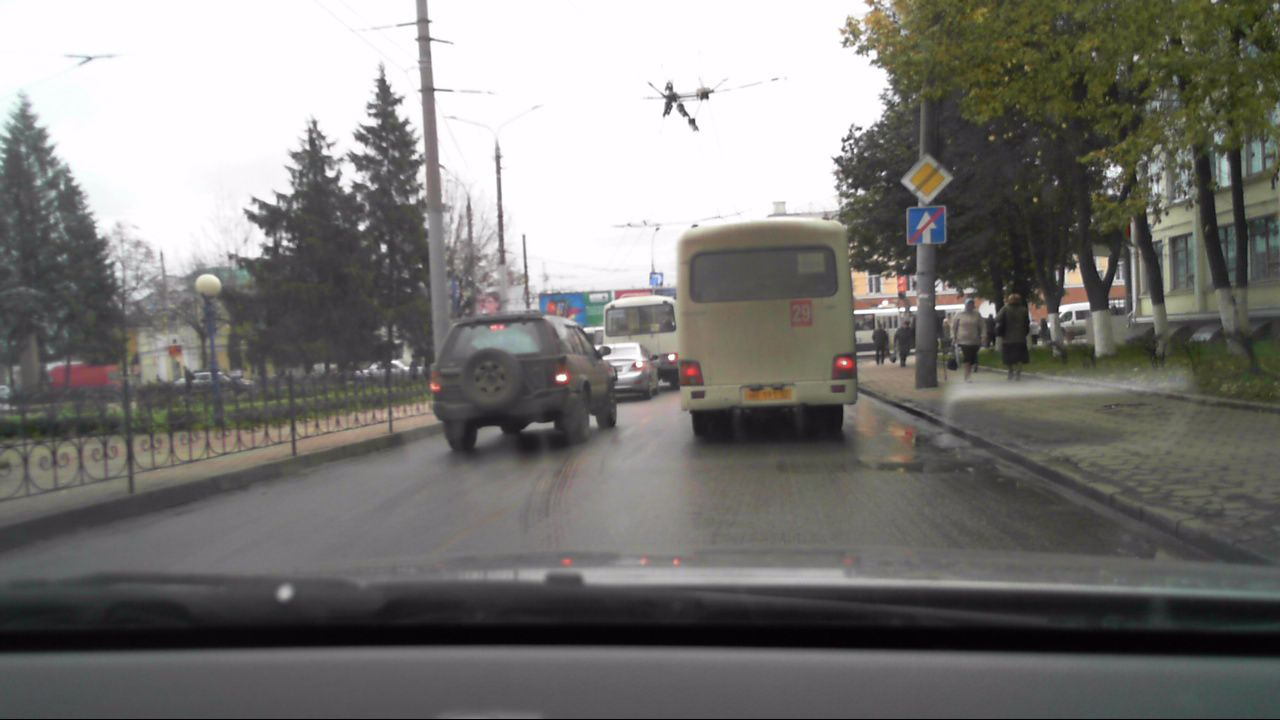main road: (899, 152, 955, 204)
